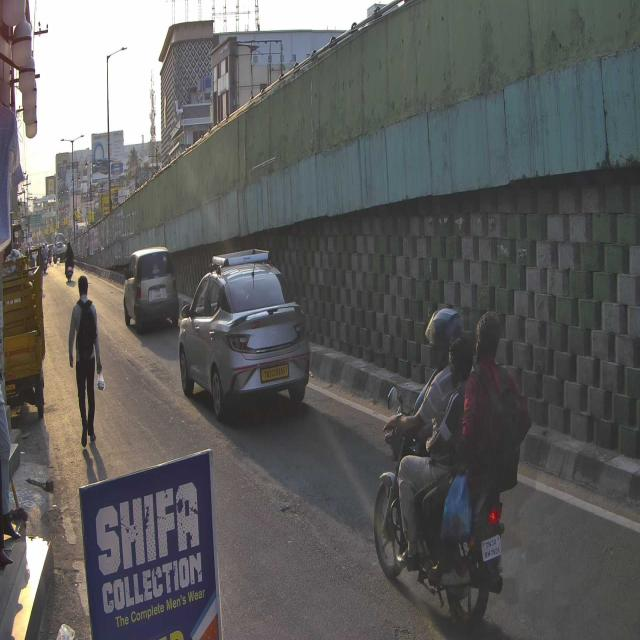triple_rider: (372, 307, 520, 632)
